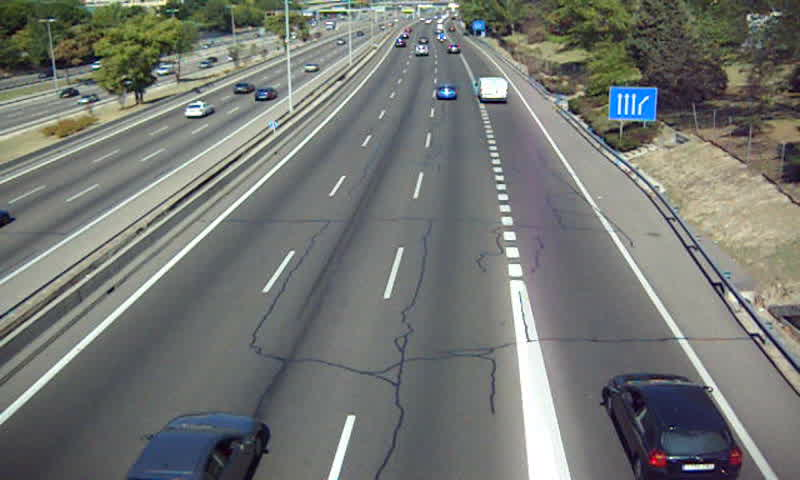car: (607, 373, 741, 480), (436, 85, 458, 100)
van: (477, 78, 509, 104)
